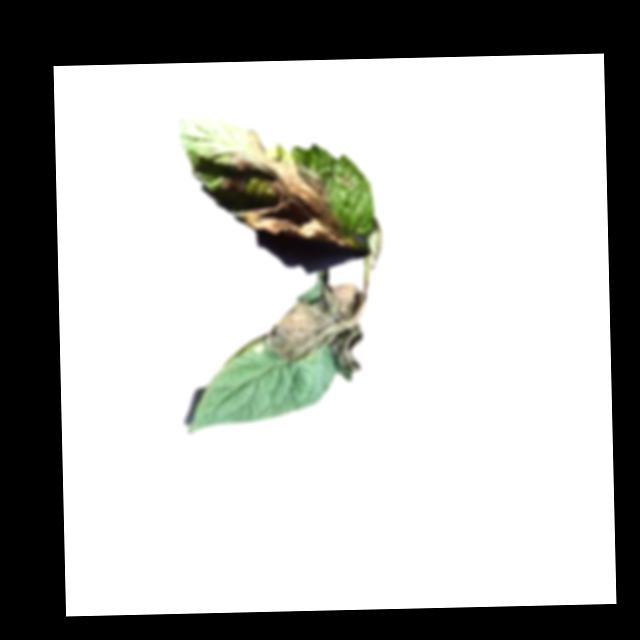Late_blight: (212, 126, 350, 248), (264, 281, 367, 383)
